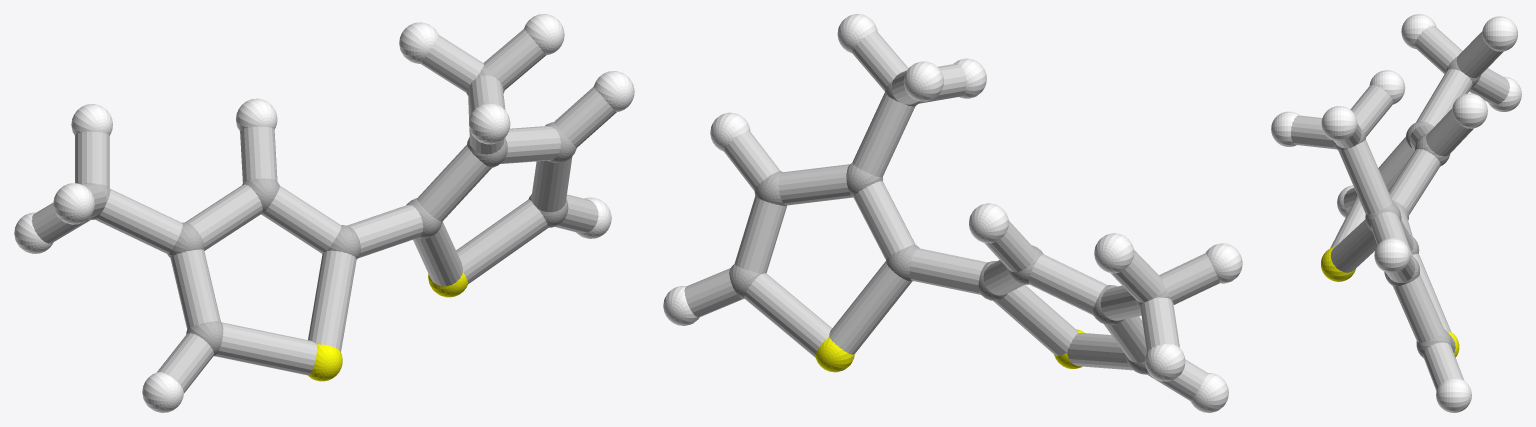
The model's file is Methylthiophene_Phi_10_Theta_240_Methylthiophene.glb.
3 views of the same model, side by side, from view 1: azimuth 30°, elevation 25°; view 2: azimuth 150°, elevation 25°; view 3: azimuth 270°, elevation 25° (orthographic). The views are drawn at different scales.
Visible parts, largest first — view 1: grp7965, grp3621, grp1, grp7241; view 2: grp7965, grp3621, grp1, grp7241; view 3: grp7965, grp3621, grp1, grp7241.
Boxes of the visible parts, x1,y1,x2,y2 form: grp7965: (31,29,616,393); grp3621: (14,14,634,412); grp1: (88,65,576,355); grp7241: (308,272,468,381); grp7965: (684,31,1219,401); grp3621: (663,14,1242,412); grp1: (729,80,1169,374); grp7241: (815,329,1084,372); grp7965: (1291,25,1509,390); grp3621: (1271,14,1521,412); grp1: (1332,57,1480,358); grp7241: (1321,246,1459,357).
Bounding box in the file's own units: 9.52 × 4.99 × 4.19.
